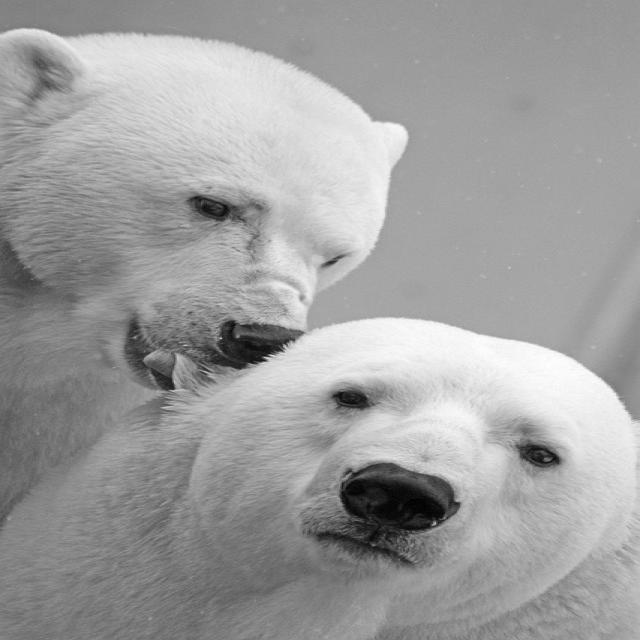Carnivorous: (0, 29, 409, 569), (0, 318, 640, 640)
